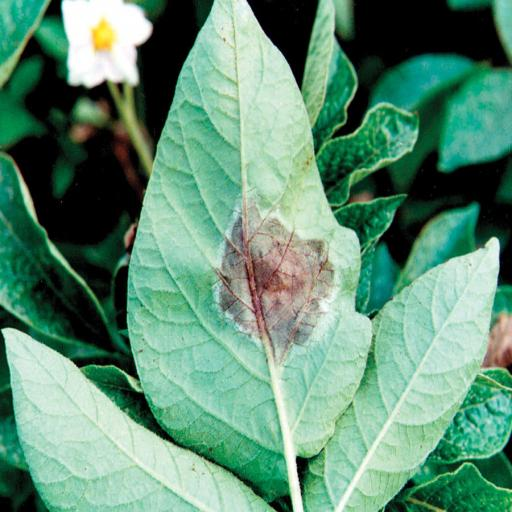disease_tomato: (121, 0, 369, 496)
